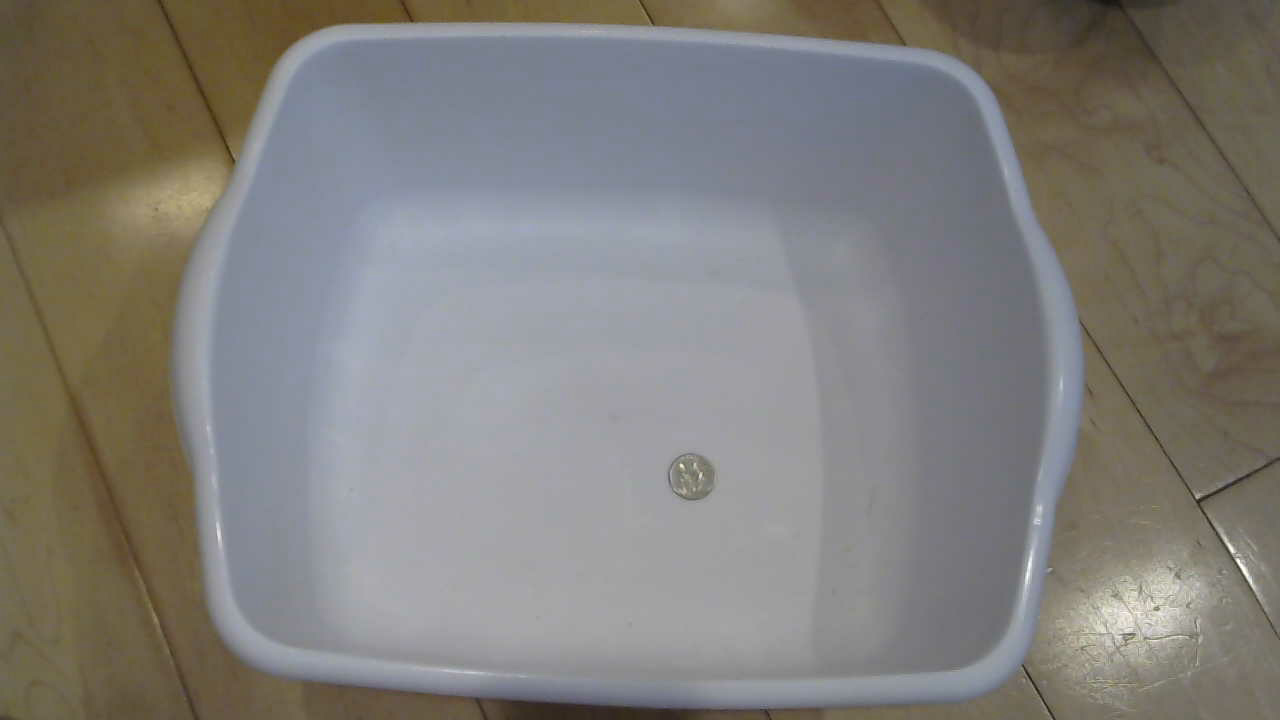coin: (667, 454, 731, 513)
